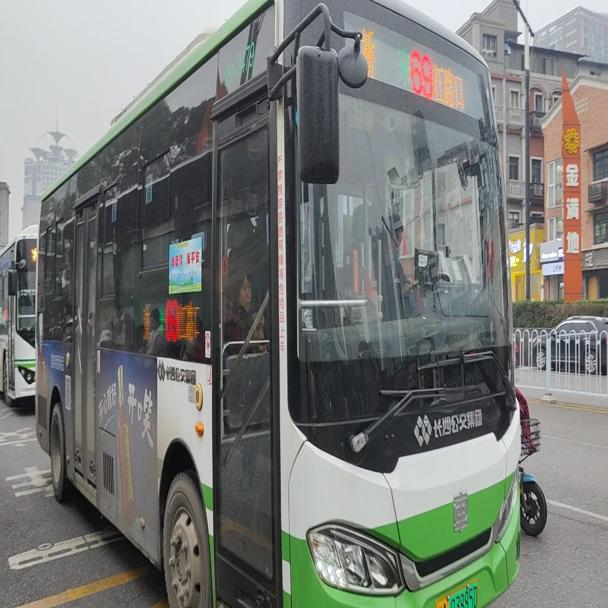bus: (0, 221, 35, 405)
screen: (409, 40, 433, 99)
